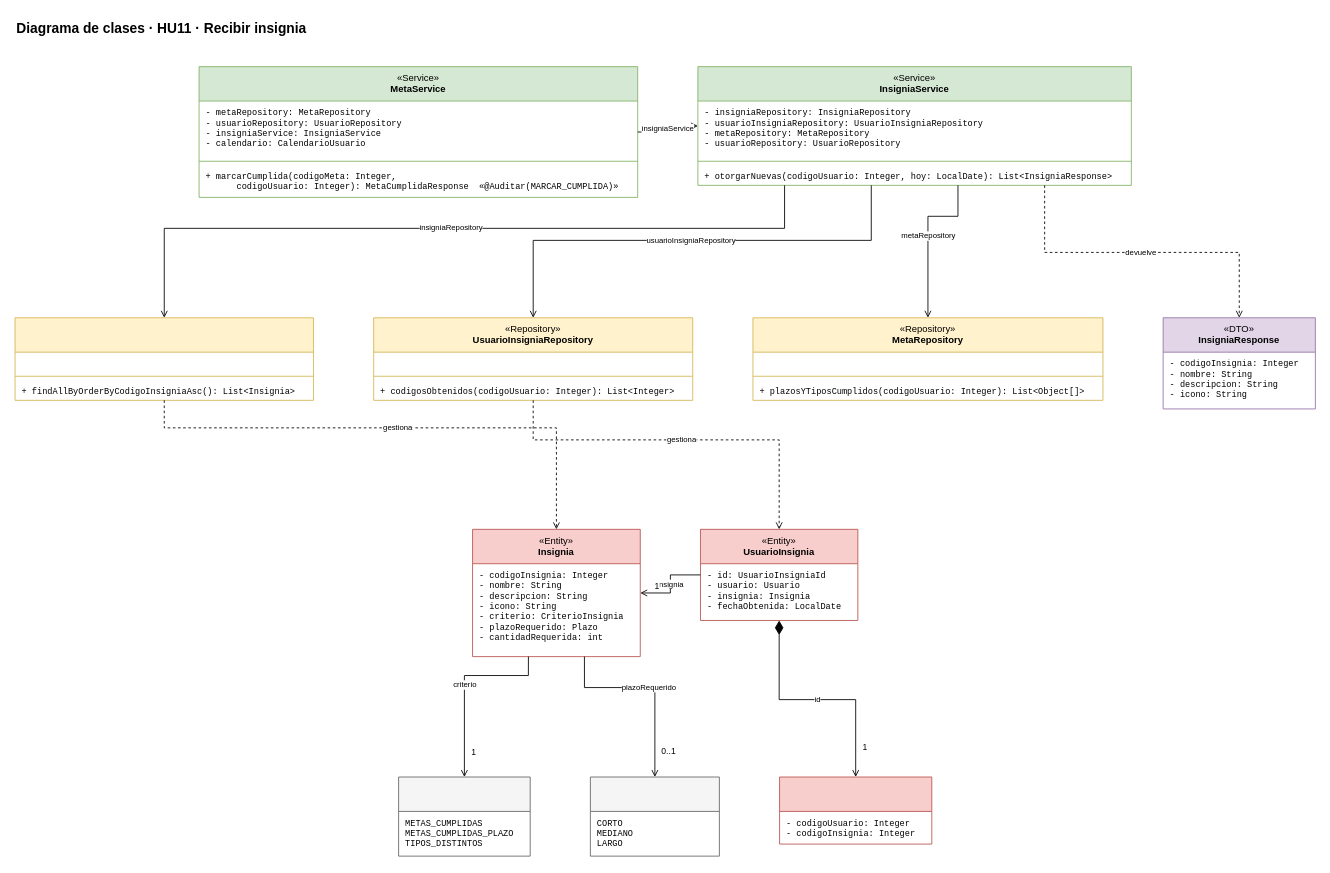
Some shapes in this 1330 by 873 pixel diagram are drawn without their labels. Here are the shapes that lost their labels. From the top down, the box of each, then its label:
(14, 317, 313, 400): «Repository» InsigniaRepository
(398, 776, 530, 856): «Enumeration» CriterioInsignia
(590, 776, 719, 856): «Enumeration» Plazo
(779, 776, 932, 844): «Embeddable» UsuarioInsigniaId
